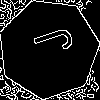J: (23, 23, 75, 62)
